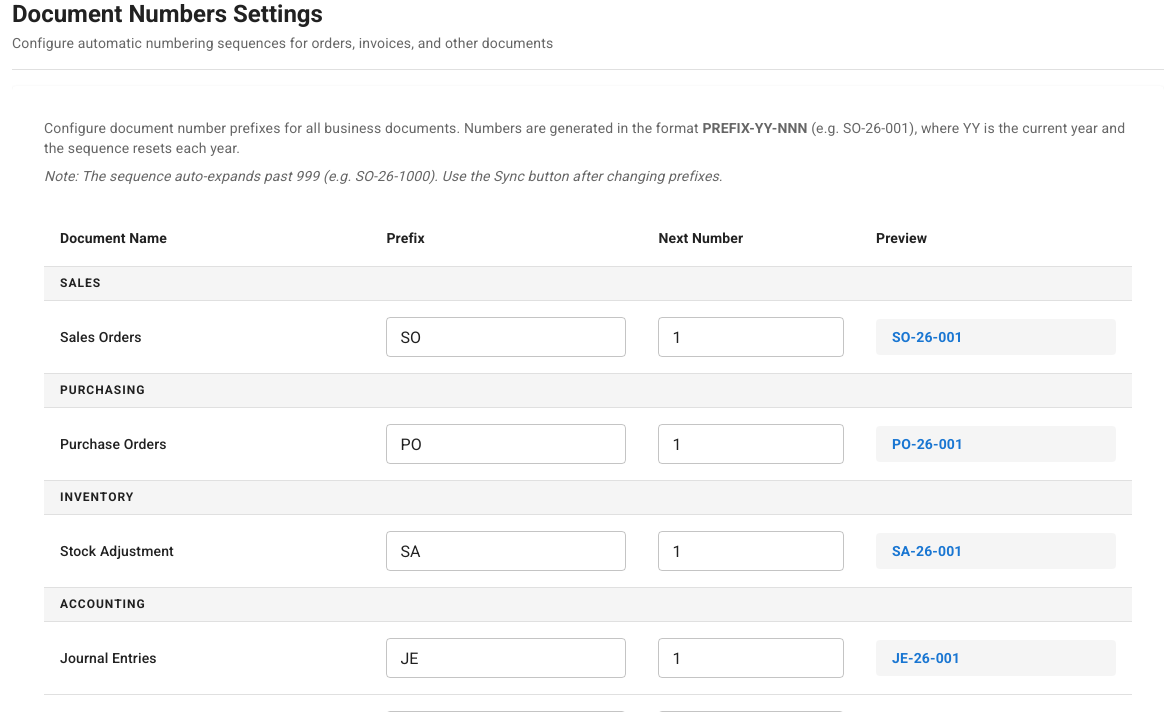
DocumentNumbersPage › discards edits on Cancel even when refetch returns the same data
Replace the text in the field in the row of "Sales Orders" with "SORD". click: (506, 337)
box: [386, 317, 626, 357]
(page scrolled)
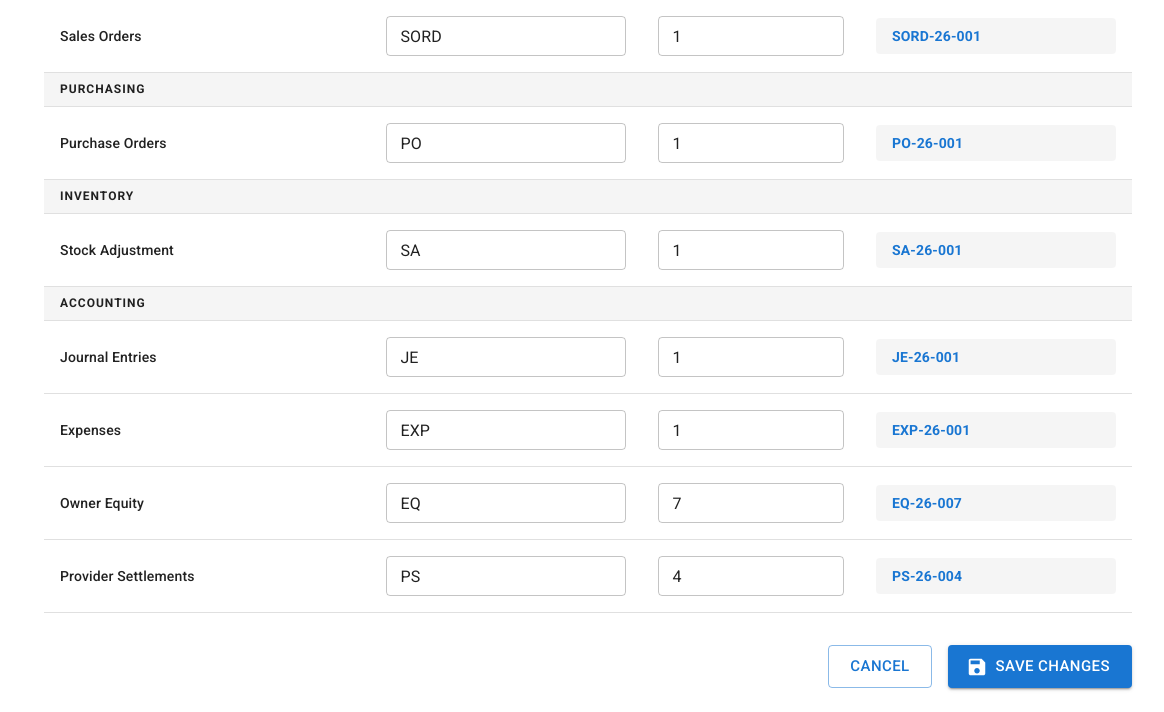
Click the button "Cancel". click: (880, 667)
box: [828, 646, 932, 688]
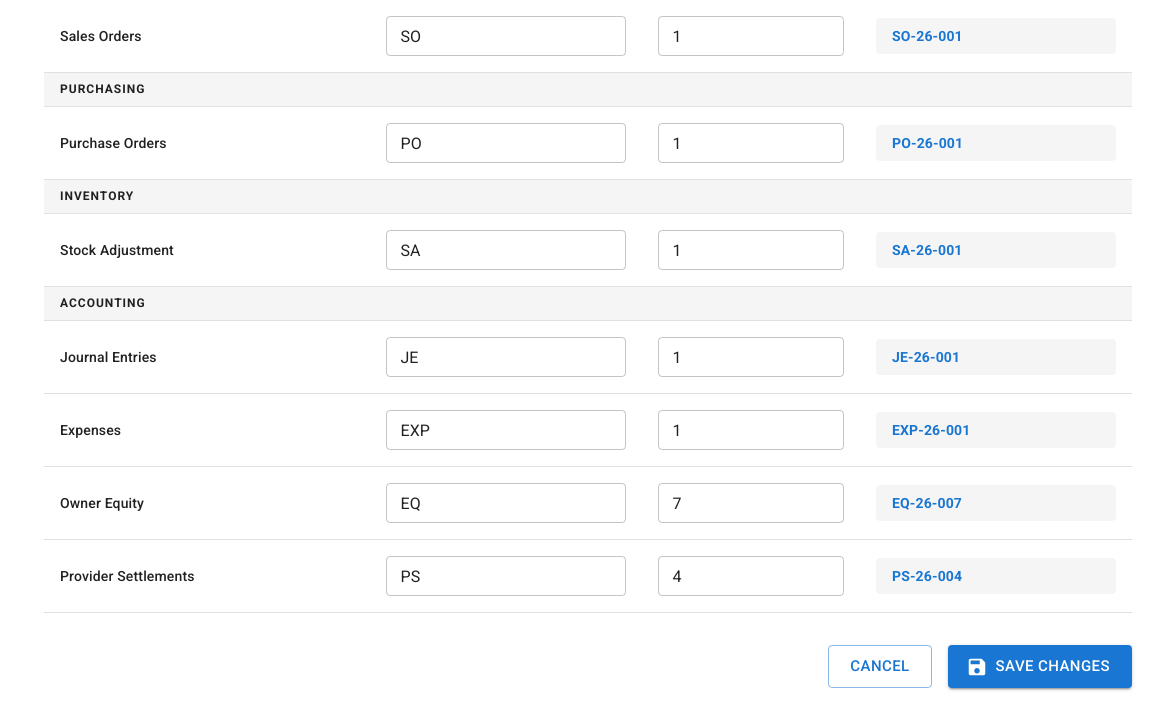
Now the field in the row of "Sales Orders" holds "SO", box [386, 16, 626, 56]
